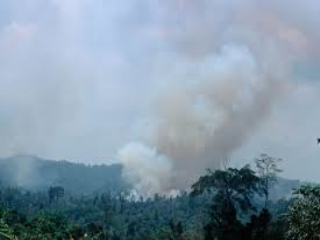smoke: (121, 43, 277, 206)
